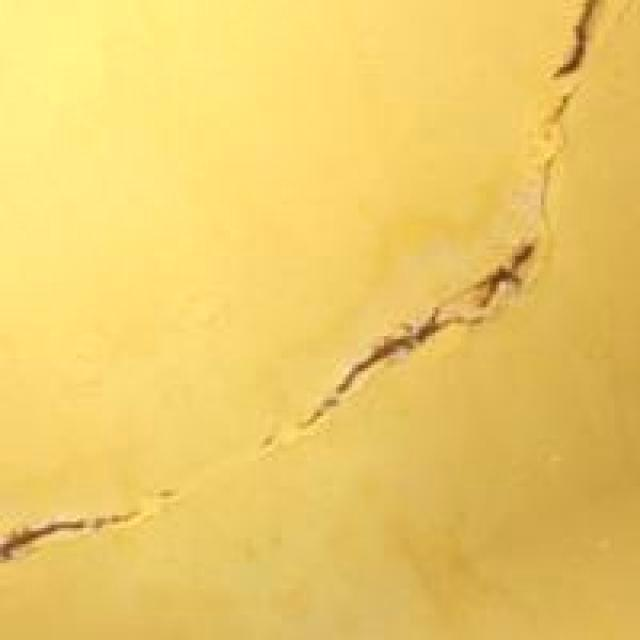SurfaceCrack: (252, 0, 640, 484), (0, 486, 162, 572)
